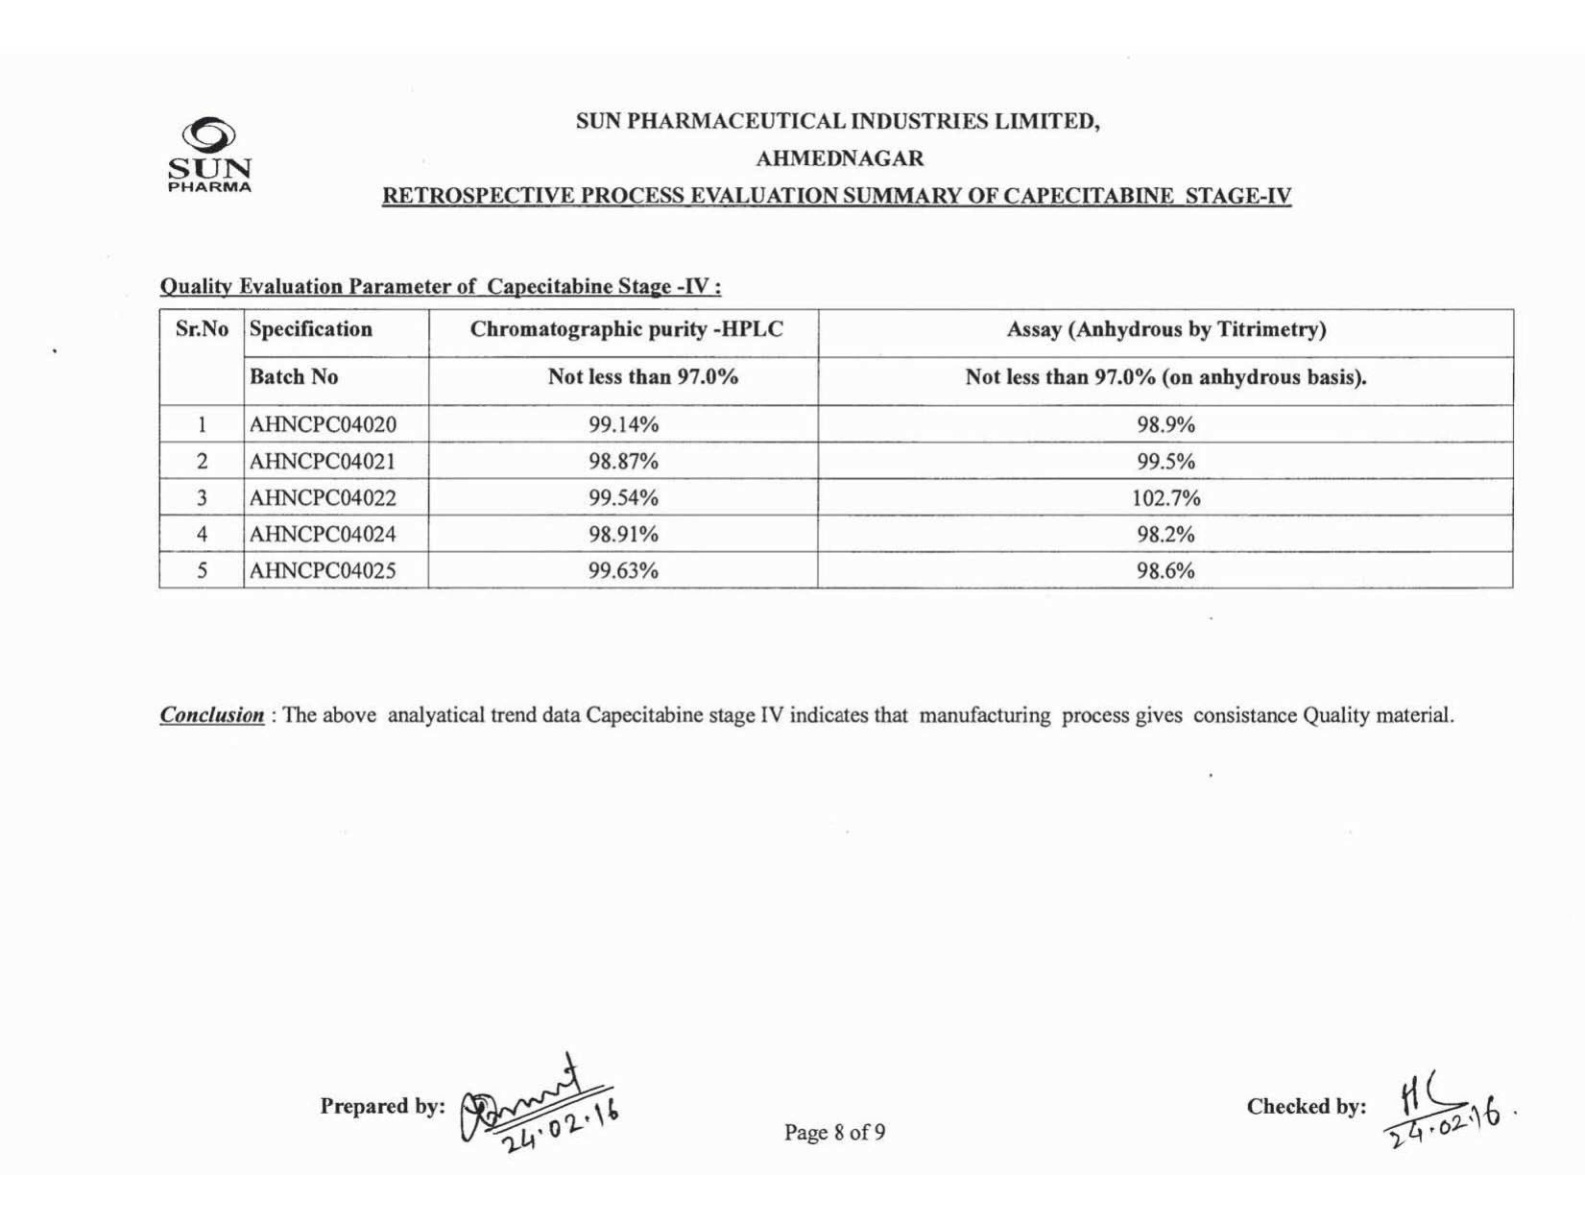merged_cells: (157, 306, 1516, 591)
